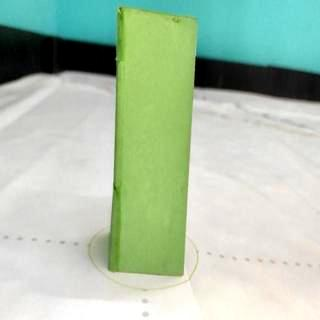greenbox: (108, 4, 200, 278)
